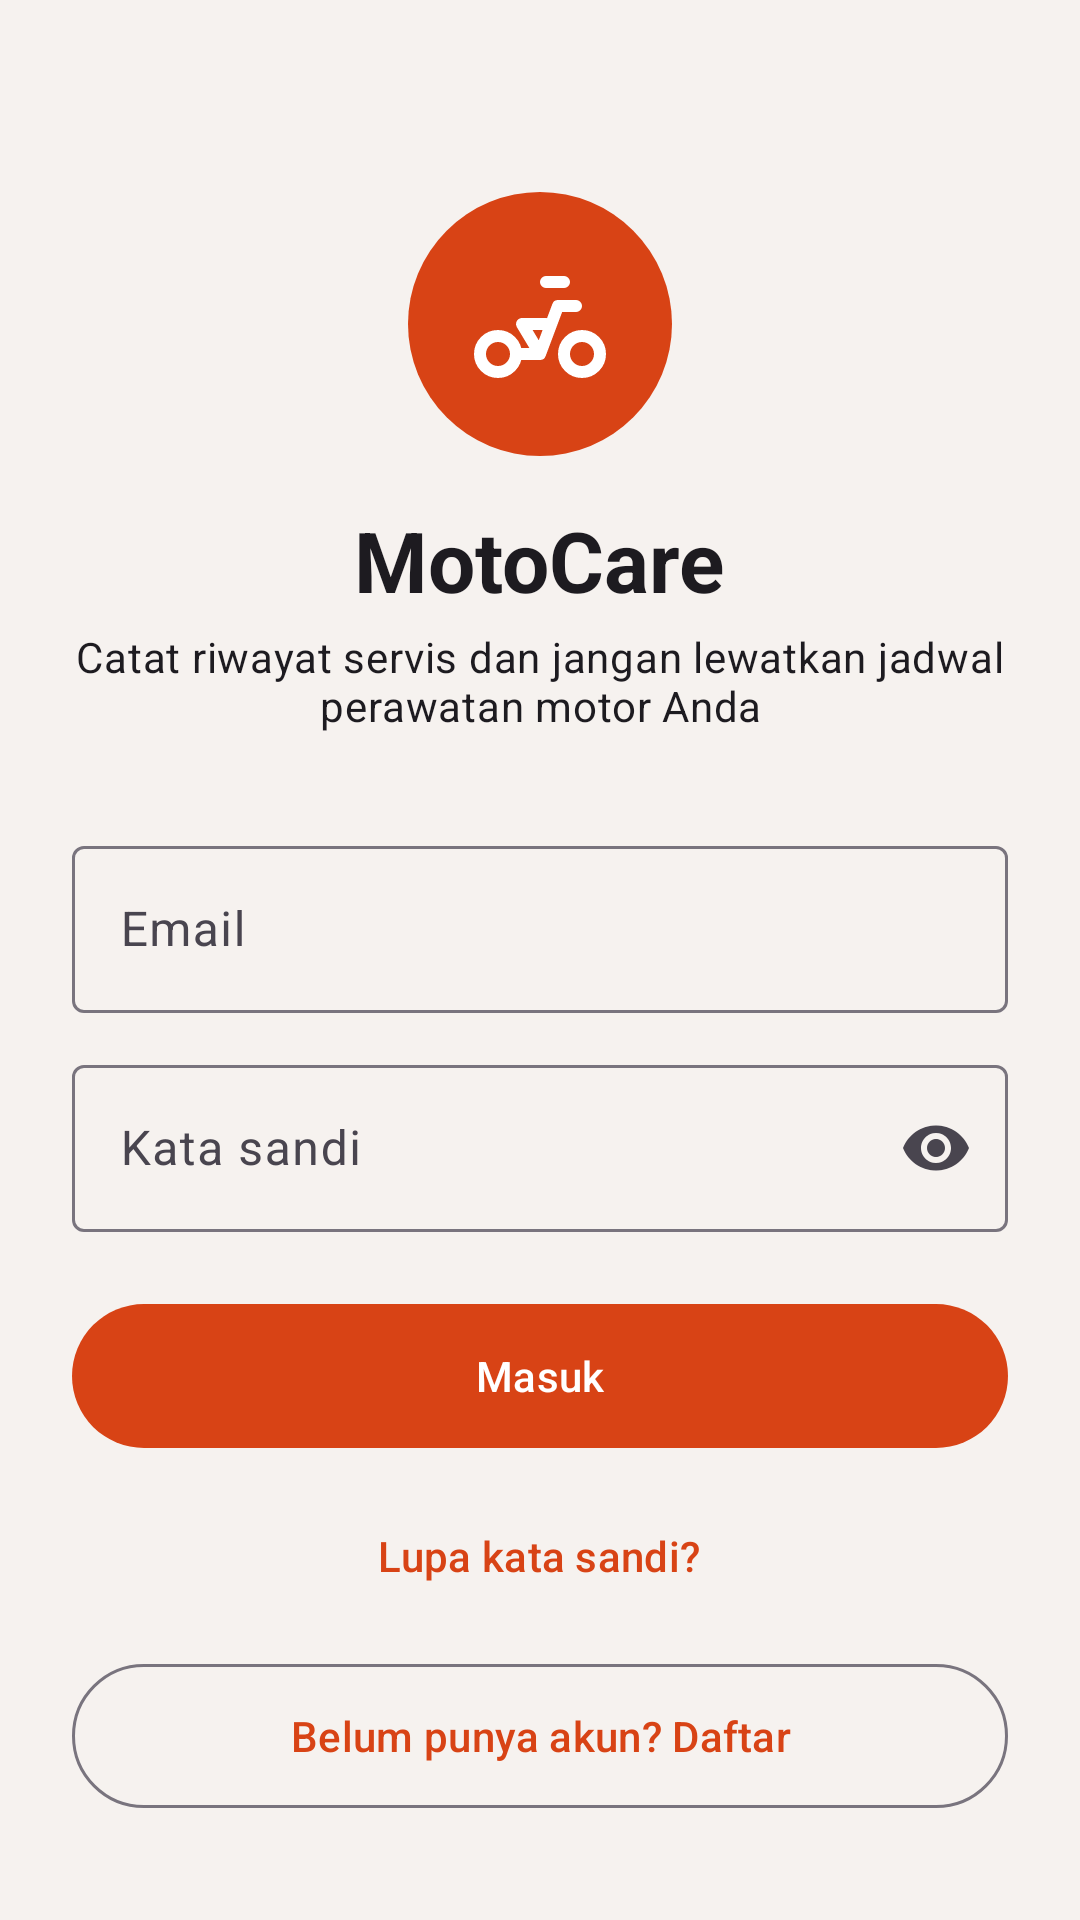

Point at icon controls on the screen. Image size 1080 x 1920, points as (x,y).
motor: (540,324)
